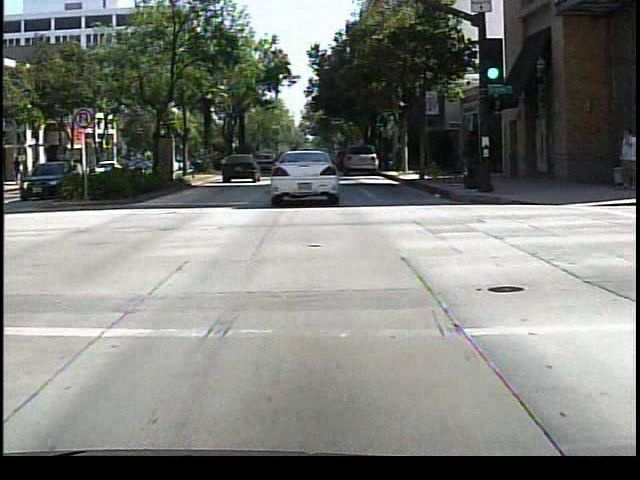person: (611, 123, 633, 197), (12, 153, 29, 187)
